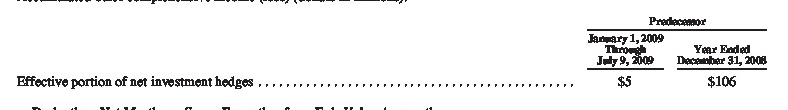table: (0, 0, 788, 110)
